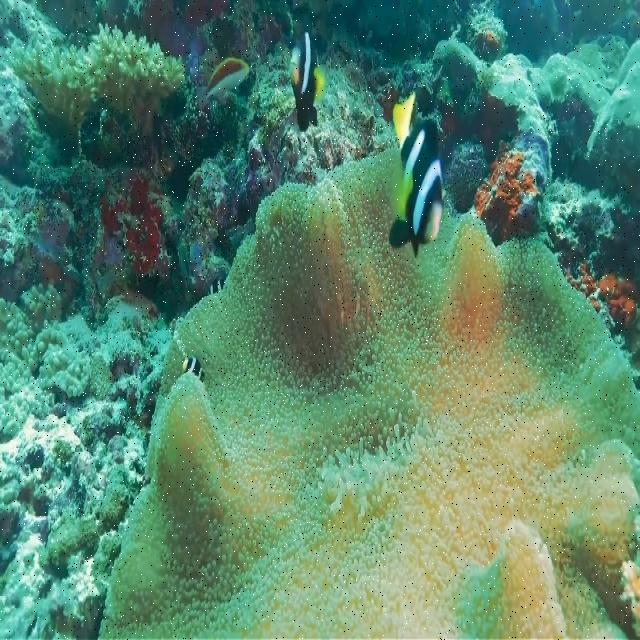fish: (388, 92, 447, 258), (289, 32, 327, 132), (195, 58, 250, 106), (183, 357, 206, 380), (208, 277, 225, 294)
reefs: (98, 149, 639, 639), (0, 0, 397, 329), (292, 1, 639, 367), (0, 281, 173, 639)
